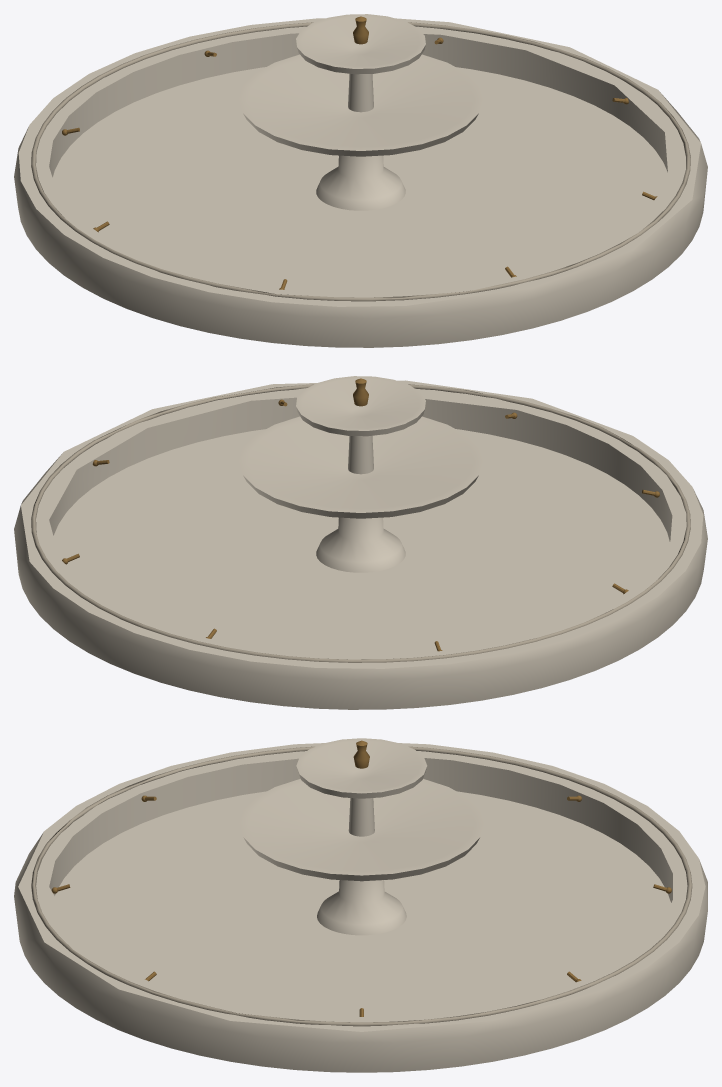
Rendered from fountain.glb.
3 renders of one model, top to bottom at view 1: azimuth 30°, elevation 25°; view 2: azimuth 150°, elevation 25°; view 3: azimuth 270°, elevation 25°, orthographic.
Visible parts, largest first — view 1: stone0, stone3, stoneDark1, stone5, stone2, stone4; view 2: stone0, stone3, stoneDark1, stone5, stone2, stone4; view 3: stone0, stone3, stoneDark1, stone5, stone2, stone4.
Part boxes in pixels (box(x1,y1,x2,y2)): stone0: box(14, 18, 707, 347); stone3: box(238, 54, 483, 156); stoneDark1: box(31, 22, 690, 301); stone5: box(296, 14, 425, 74); stone2: box(316, 155, 405, 210); stone4: box(348, 73, 373, 112); stone0: box(14, 380, 707, 709); stone3: box(238, 416, 483, 518); stoneDark1: box(31, 384, 690, 662); stone5: box(296, 376, 425, 436); stone2: box(316, 517, 405, 572); stone4: box(348, 435, 373, 474); stone0: box(14, 743, 707, 1072); stone3: box(239, 779, 484, 881); stoneDark1: box(31, 746, 692, 1026); stone5: box(296, 738, 427, 798); stone2: box(317, 880, 406, 935); stone4: box(348, 798, 374, 836).
Size of the model in its own units: 8.46 by 2.52 by 8.48.
